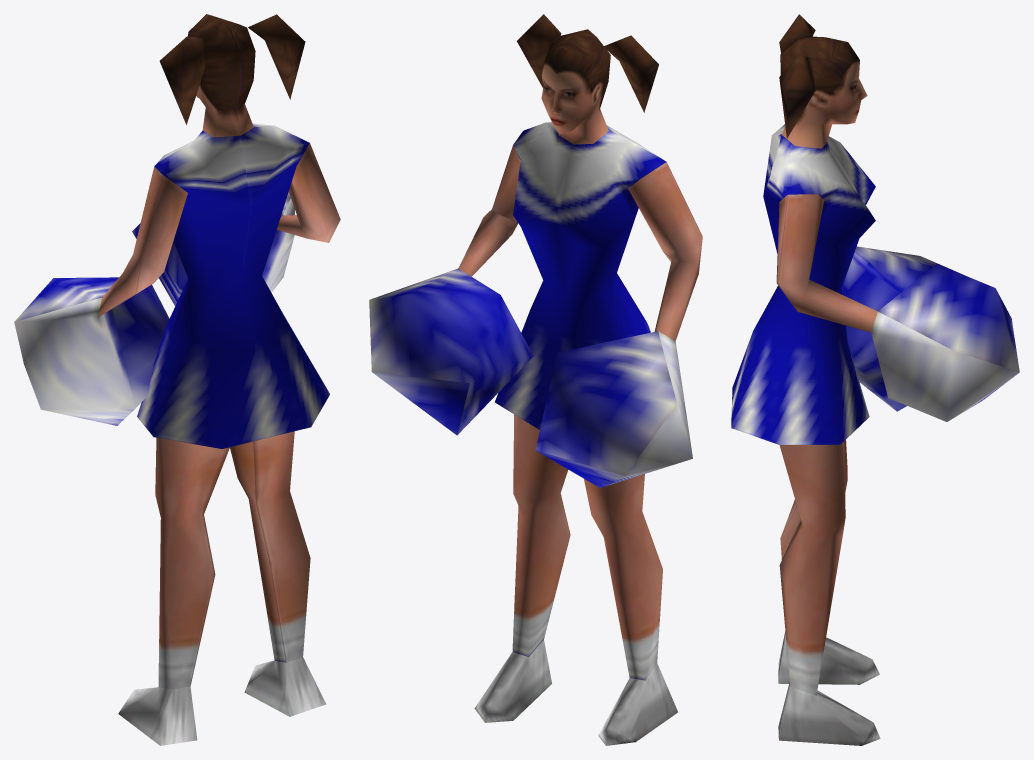
Rendered from xico.ico.obj.
The picture shows the model from 3 angles, left to right: view 1: azimuth 30°, elevation 25°; view 2: azimuth 150°, elevation 25°; view 3: azimuth 270°, elevation 25°; orthographic projection. The views are drawn at different scales.
Size of the model in its own units: 1.67 by 3.76 by 1.46.
Materials: 1 (1 with a texture image).
